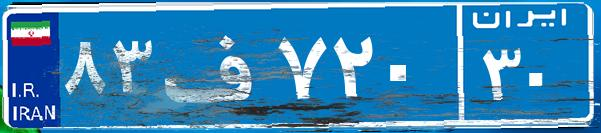0: (385, 28, 445, 110), (525, 38, 570, 115)
2: (330, 28, 385, 110)
3: (475, 38, 525, 113), (110, 28, 158, 105)
7: (273, 28, 330, 110)
8: (57, 26, 110, 107)
ف: (158, 15, 273, 115)
